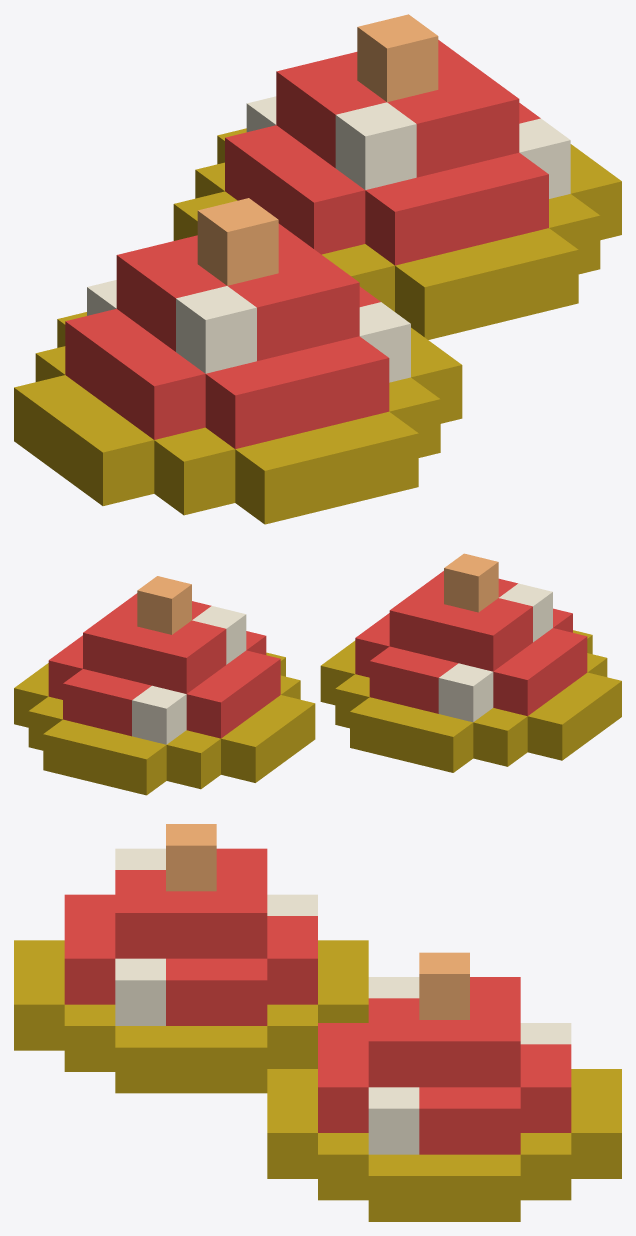
File: Mina.fbx
3 views of the same model, one above another, from view 1: azimuth 30°, elevation 25°; view 2: azimuth 150°, elevation 25°; view 3: azimuth 270°, elevation 25° (orthographic). The views are drawn at different scales.
Visible parts, largest first — view 1: minas; view 2: minas; view 3: minas.
Boxes of the visible parts, <box> form: minas: <box>14,14,621,524</box>; minas: <box>14,553,621,795</box>; minas: <box>14,824,621,1221</box>.
Size of the model in its own units: 130 by 40 by 120.
